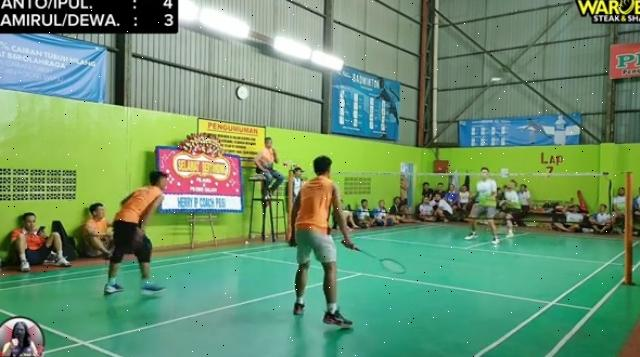Shuttlecock: (491, 75, 503, 85)
